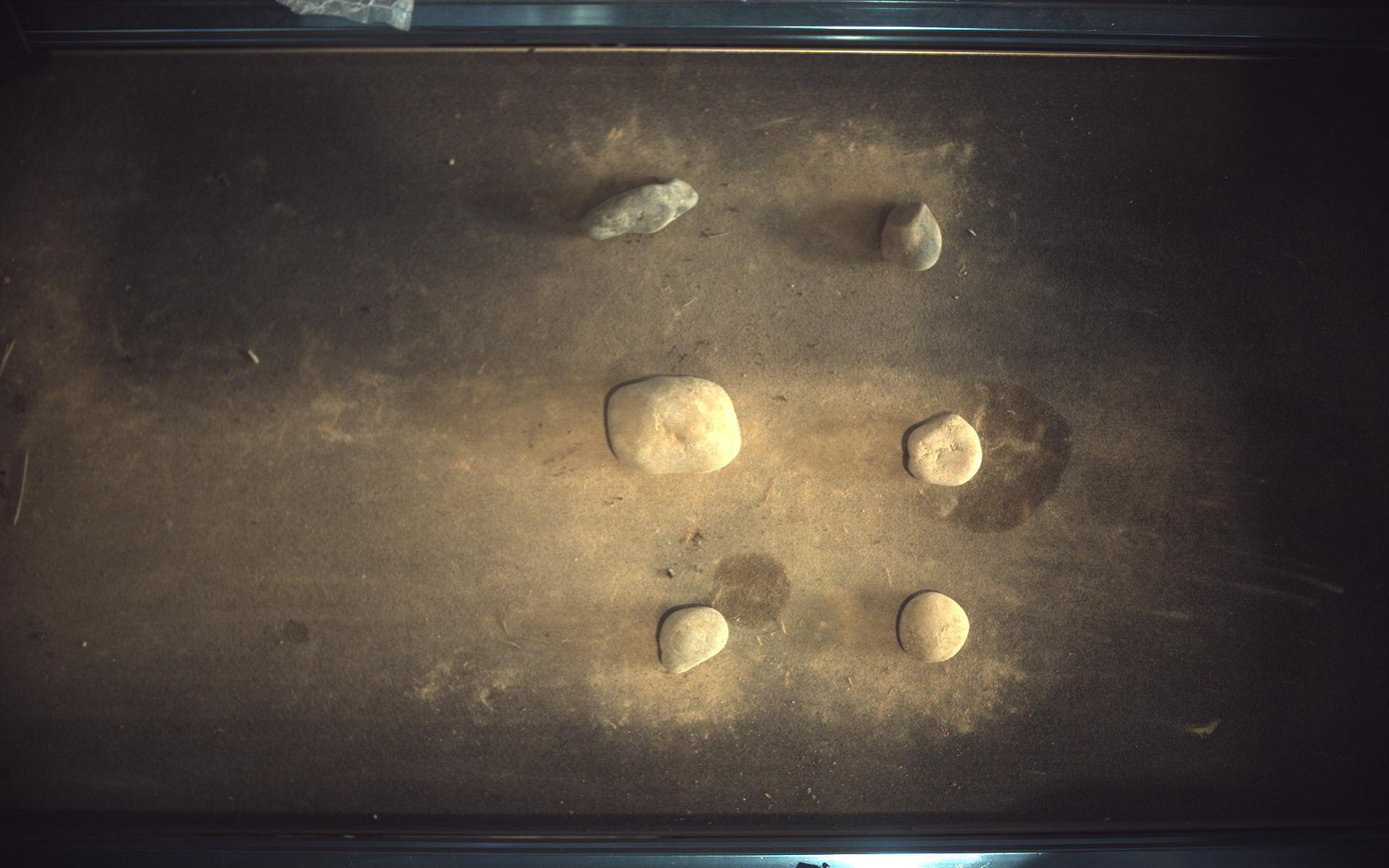stone: (607, 376, 742, 474), (581, 178, 699, 239), (908, 413, 985, 487), (900, 592, 972, 663), (659, 607, 730, 675), (883, 199, 944, 271)
